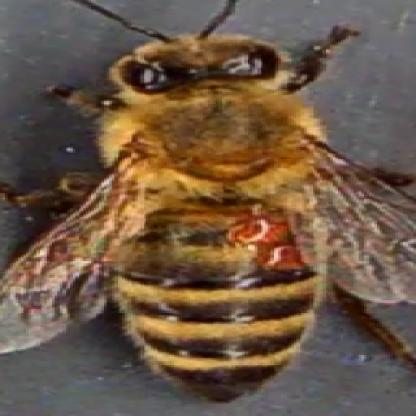bee: (89, 31, 346, 389)
vaoora: (229, 216, 287, 240), (271, 241, 302, 275)
